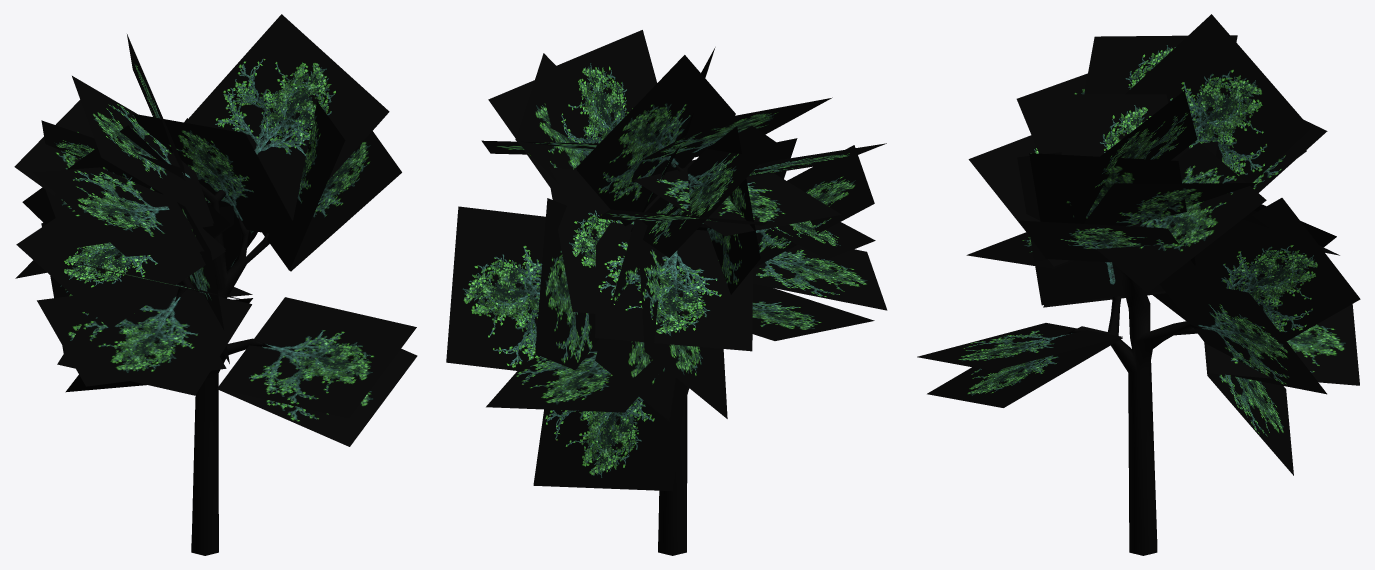
File: tree56.glb
The picture shows the model from 3 angles, left to right: view 1: azimuth 30°, elevation 25°; view 2: azimuth 150°, elevation 25°; view 3: azimuth 270°, elevation 25°; orthographic projection. The views are drawn at different scales.
Size of the model in its own units: 4.79 by 6.65 by 5.23.
Materials: 2 (1 with a texture image).
